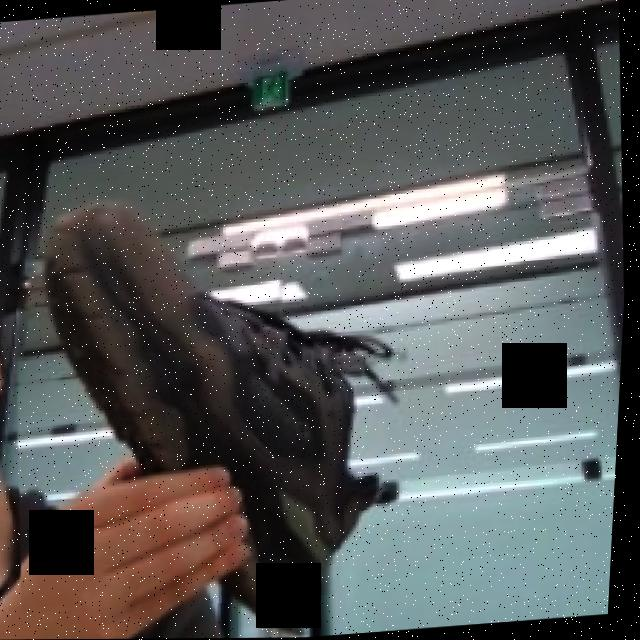shoe: (0, 112, 505, 640)
